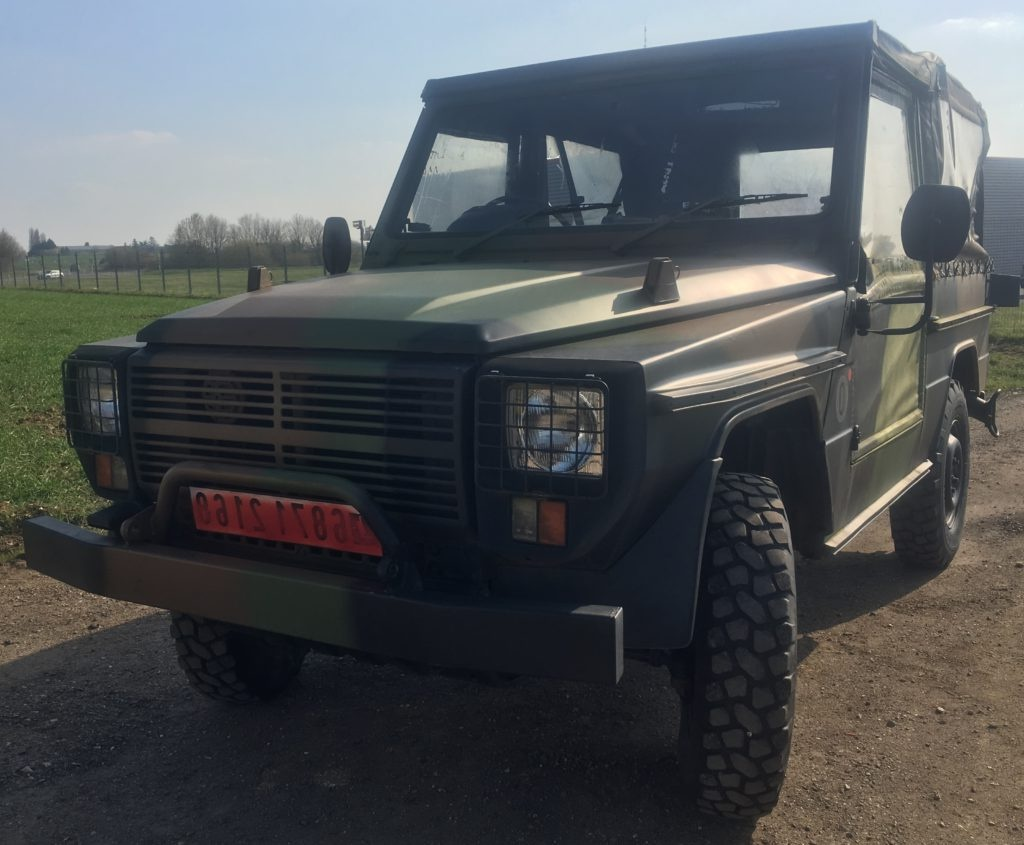license_plate: (191, 486, 390, 556)
